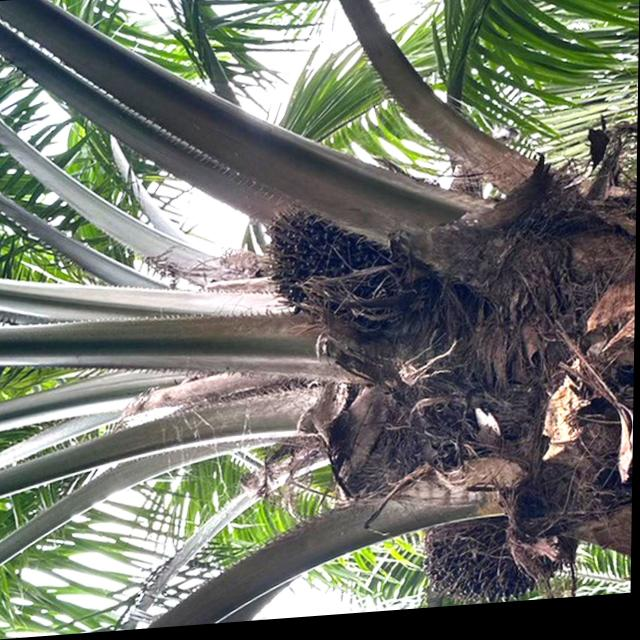unripe: (259, 193, 410, 338), (417, 519, 556, 615)
